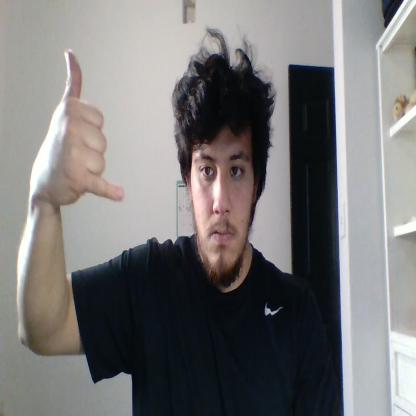Y: (47, 49, 124, 207)
